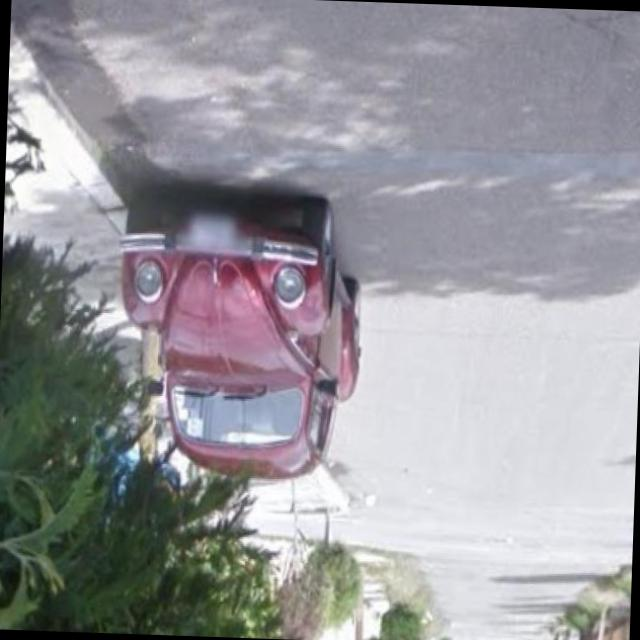car: (102, 183, 374, 479)
